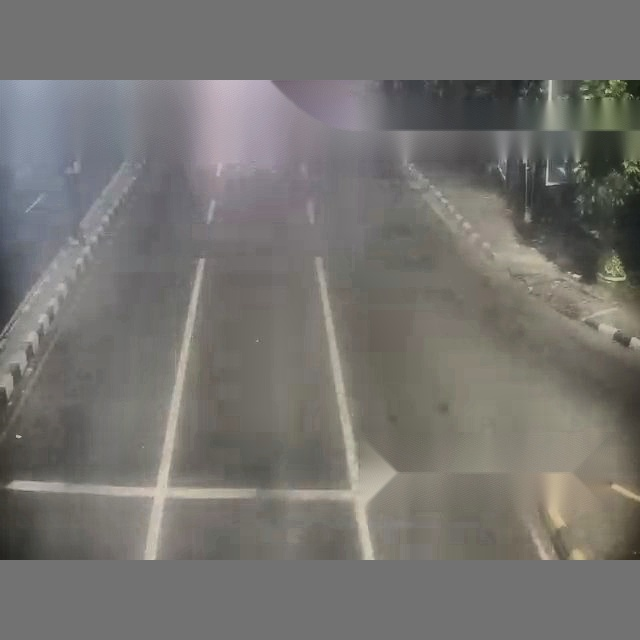Truk: (186, 116, 639, 557)
